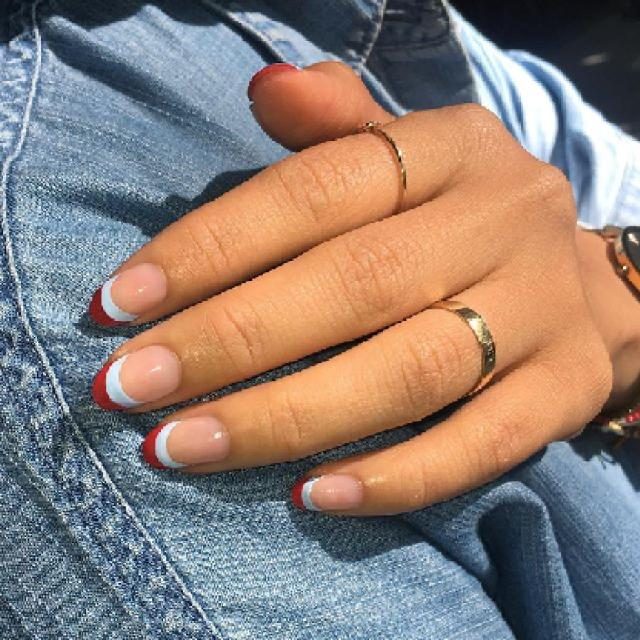Nail: (94, 344, 181, 409), (141, 416, 230, 470), (89, 264, 166, 326), (294, 475, 364, 510)
